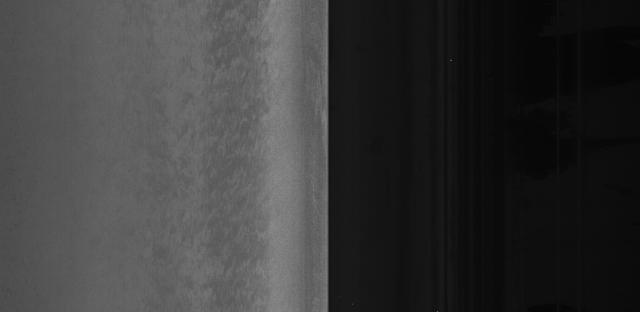silk_spot: (153, 113, 254, 200)
